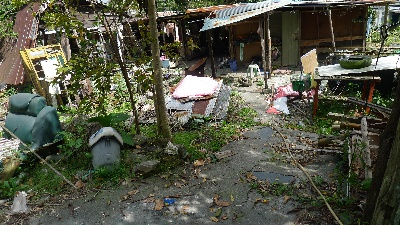tire: (338, 52, 374, 70)
